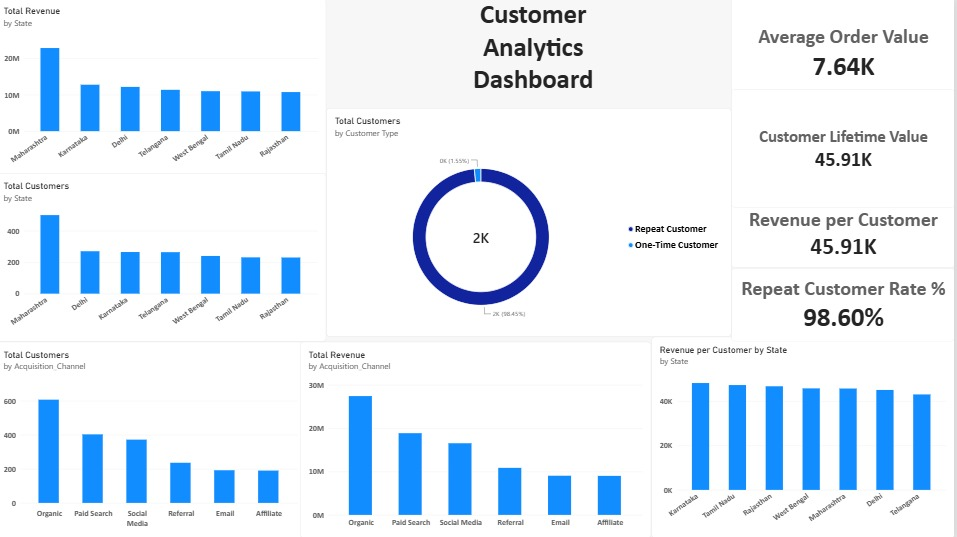

The dashboard page shown, as its layout file describes it:
{"tool":"powerbi","page":{"name":"Customer Analytics","canvas":[1920,1080],"ordinal":1},"visuals":[{"type":"clusteredColumnChart","fields":{"Category":["Customers.State"],"Y":["Orders.Total Revenue"]},"box":[0,0,662.5,362.5],"z":0},{"type":"clusteredColumnChart","fields":{"Category":["Customers.State"],"Y":["Orders.Total Customers"]},"box":[0,350,662.5,337.5],"z":1},{"type":"clusteredColumnChart","fields":{"Category":["Customers.State"],"Y":["Customers.Revenue per Customer by State"]},"box":[1312.5,677.5,607.5,402.5],"z":2},{"type":"clusteredColumnChart","fields":{"Category":["Customers.Acquisition_Channel"],"Y":["Orders.Total Customers"]},"box":[0,687.5,622.5,392.5],"z":3},{"type":"clusteredColumnChart","fields":{"Category":["Customers.Acquisition_Channel"],"Y":["Orders.Total Revenue"]},"box":[610,687.5,702.5,392.5],"z":4},{"type":"cardVisual","fields":{"Data":["Customers.Repeat Customer Rate %"]},"box":[1472.5,540,447.5,147.5],"z":5},{"type":"donutChart","fields":{"Category":["Customers.Customer Type"],"Y":["Orders.Total Customers"]},"box":[662.5,220,810,457.5],"z":7},{"type":"cardVisual","fields":{"Data":["Customers.Average Order Value"]},"box":[1472.5,0,447.5,220],"z":8},{"type":"cardVisual","fields":{"Data":["Customers.Revenue per Customer"]},"box":[1472.5,402.5,447.5,137.5],"z":9},{"type":"cardVisual","fields":{"Data":["Customers.Customer Lifetime Value"]},"box":[1472.5,182.5,447.5,237.5],"z":10},{"type":"textbox","box":[680,0,792.5,220],"z":11}]}

Visuals, with their boxes in screenshot pixels (x1, y1, x2, y2), scaled from the page's 1920x1080 canvas onto the 957x537 screenshot:
clusteredColumnChart - Customers.State x Orders.Total Revenue: pyautogui.locateOnScreen(0, 0, 330, 180)
clusteredColumnChart - Customers.State x Orders.Total Customers: pyautogui.locateOnScreen(0, 174, 330, 342)
clusteredColumnChart - Customers.State x Customers.Revenue per Customer by State: pyautogui.locateOnScreen(654, 337, 956, 536)
clusteredColumnChart - Customers.Acquisition_Channel x Orders.Total Customers: pyautogui.locateOnScreen(0, 342, 310, 536)
clusteredColumnChart - Customers.Acquisition_Channel x Orders.Total Revenue: pyautogui.locateOnScreen(304, 342, 654, 536)
cardVisual - Customers.Repeat Customer Rate %: pyautogui.locateOnScreen(734, 268, 956, 342)
donutChart - Customers.Customer Type x Orders.Total Customers: pyautogui.locateOnScreen(330, 109, 734, 337)
cardVisual - Customers.Average Order Value: pyautogui.locateOnScreen(734, 0, 956, 109)
cardVisual - Customers.Revenue per Customer: pyautogui.locateOnScreen(734, 200, 956, 268)
cardVisual - Customers.Customer Lifetime Value: pyautogui.locateOnScreen(734, 91, 956, 209)
textbox: pyautogui.locateOnScreen(339, 0, 734, 109)
